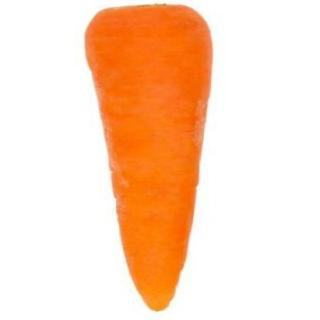carrot: (80, 2, 218, 312)
